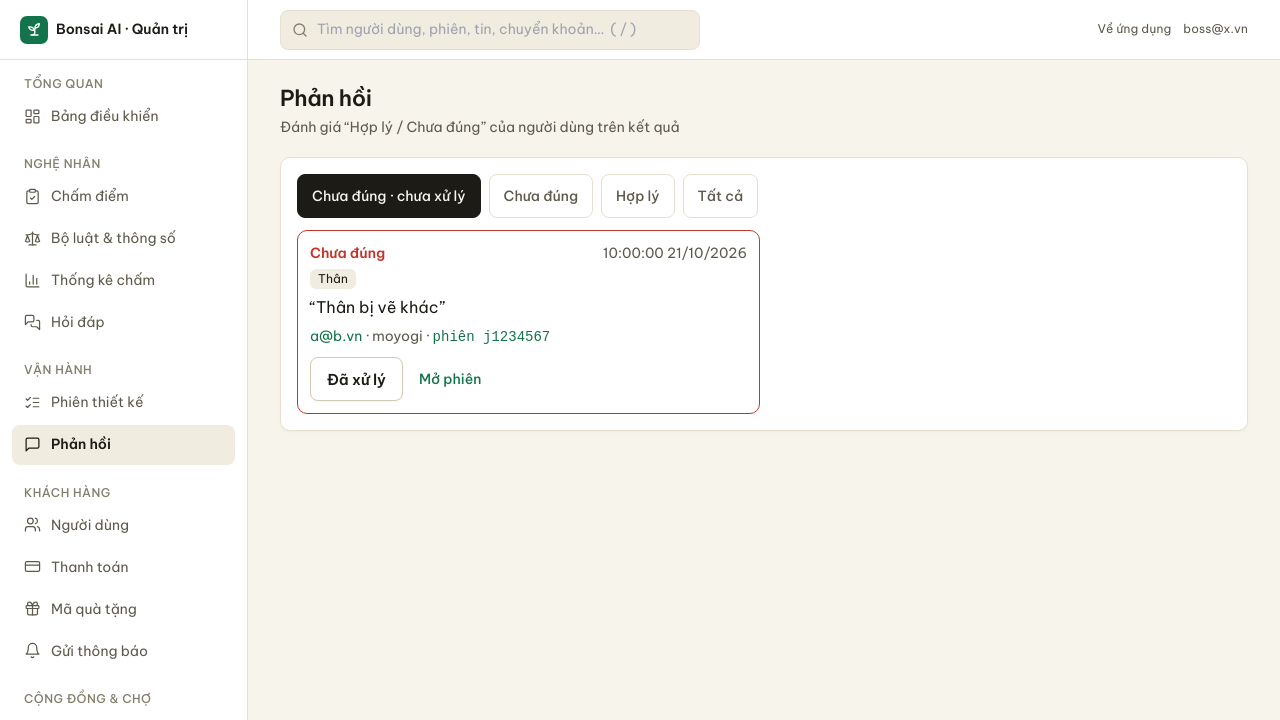
Admin console › lists feedback with a link to the job
Expected: the text "“Thân bị vẽ khác”" is shown, 310,297 -> 445,317
Click the button "Đã xử lý": (356, 380) 310,358 -> 403,402
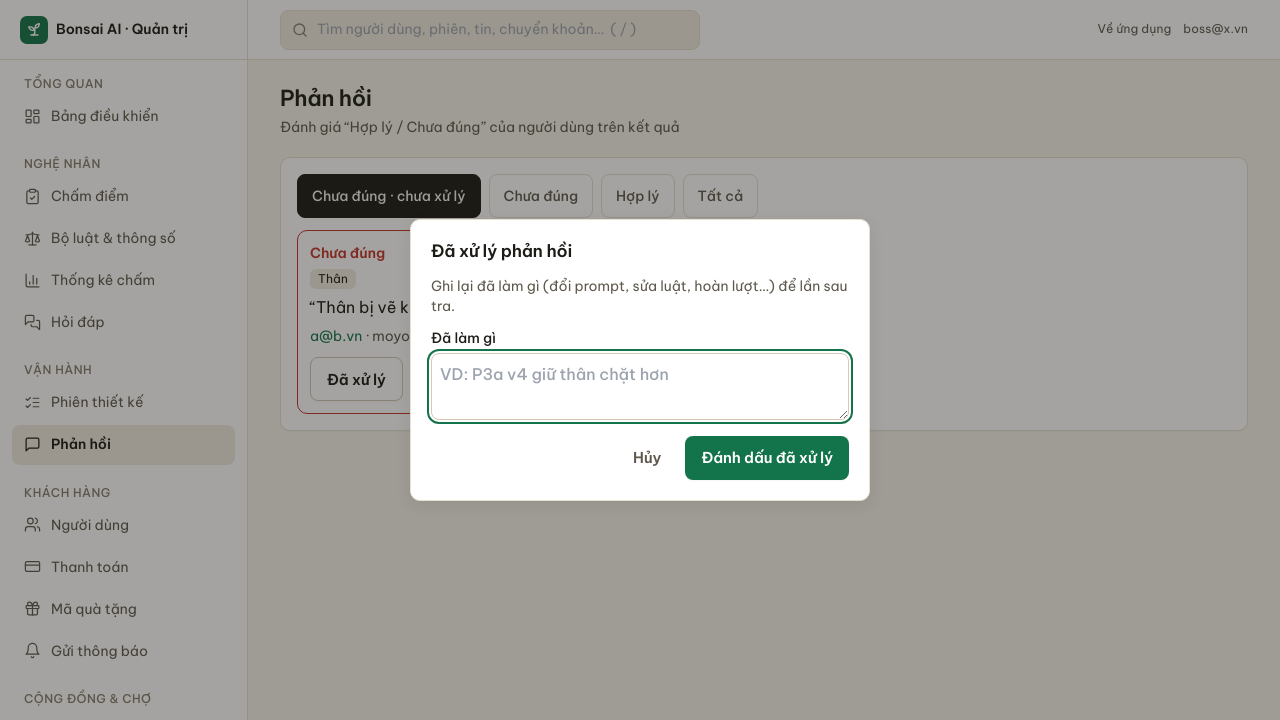
In the text box labelled "Đã làm gì": (640, 386) 431,352 -> 849,420, type "sửa P3a"
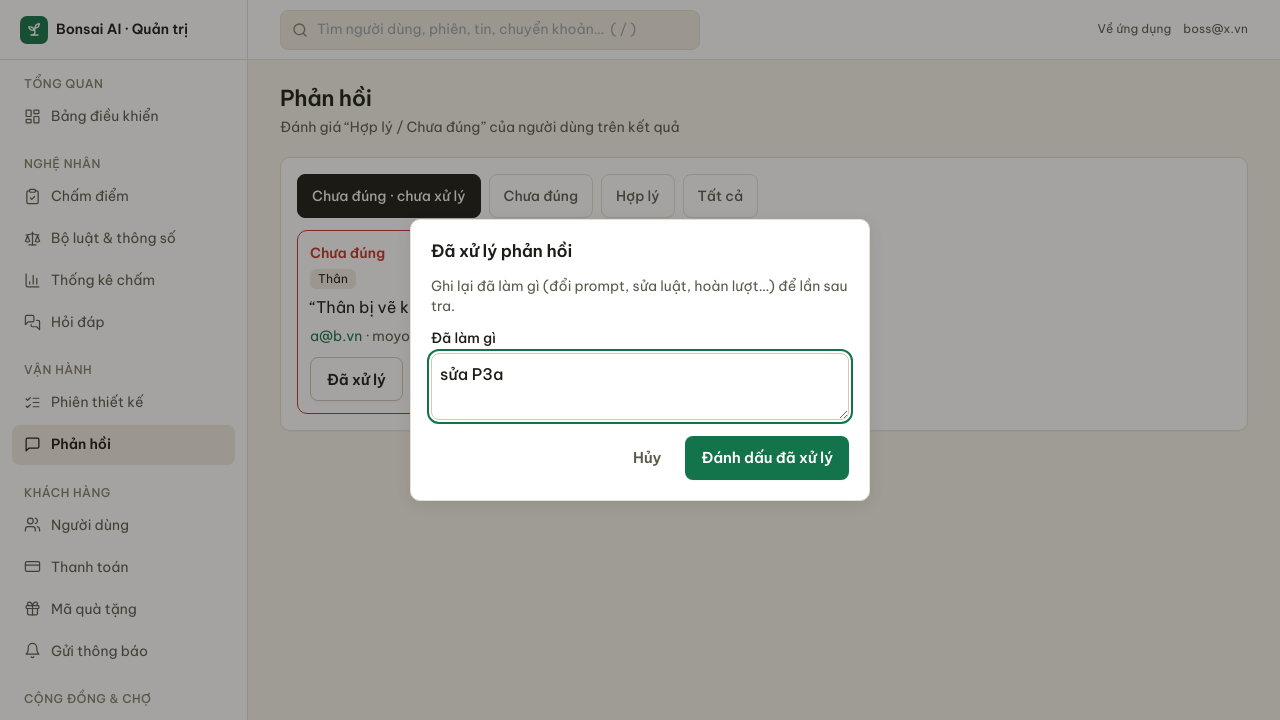
Click the button "Đánh dấu đã xử lý": (767, 458) 685,436 -> 849,480
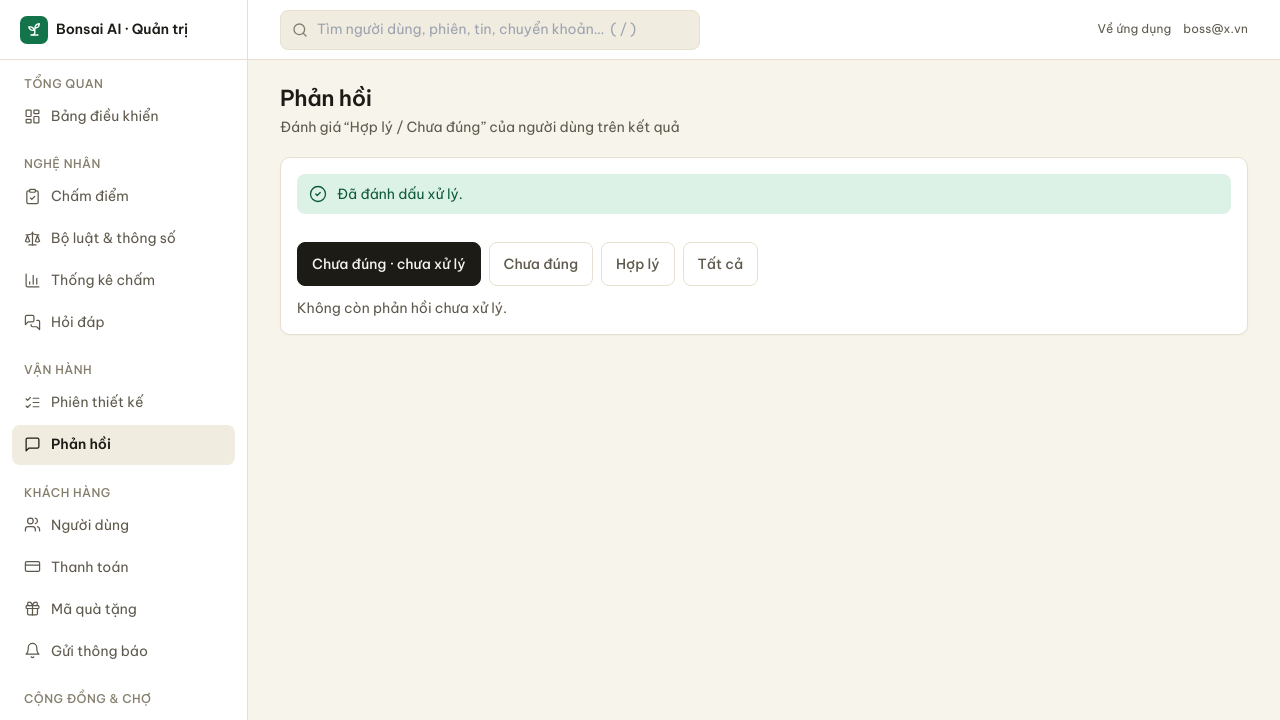
Expected: the text "Không còn phản hồi chưa xử lý." is shown, 297,299 -> 507,317
